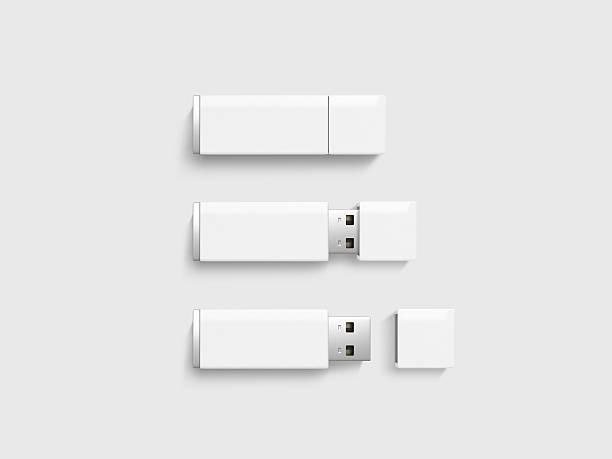USB Flash Drive: (191, 309, 373, 371)
